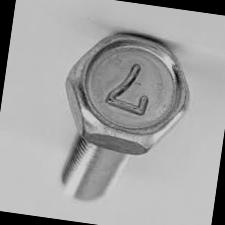screw: (56, 24, 198, 160)
